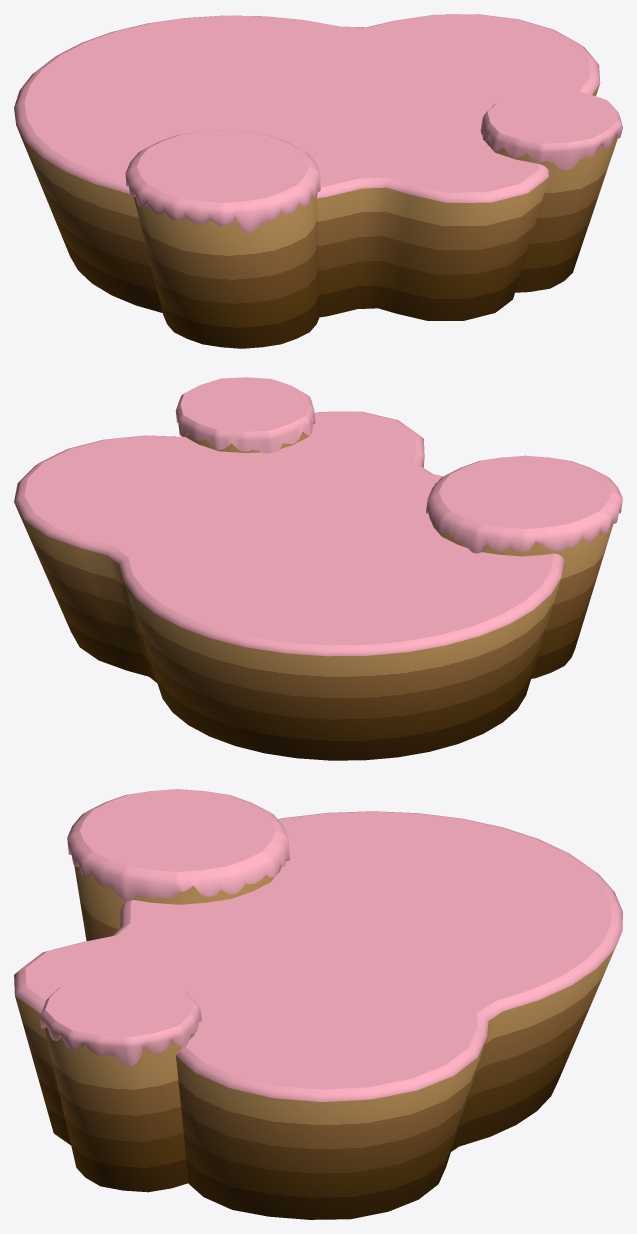
Rendered from 풍선껌 맵(chapter2).fbx.
3 views of the same model, one above another, from view 1: azimuth 30°, elevation 25°; view 2: azimuth 150°, elevation 25°; view 3: azimuth 270°, elevation 25° (orthographic). The views are drawn at different scales.
Parts seen in each view (by area): view 1: 작은뚜껑.002; view 2: 작은뚜껑.002; view 3: 작은뚜껑.002.
Part boxes in pixels (box(x1,y1,x2,y2)): 작은뚜껑.002: box(14, 14, 622, 348); 작은뚜껑.002: box(14, 377, 622, 760); 작은뚜껑.002: box(14, 789, 622, 1219).
Bounding box in the file's own units: 7187 × 2112 × 6412.
Materials: 1 (1 with a texture image).
